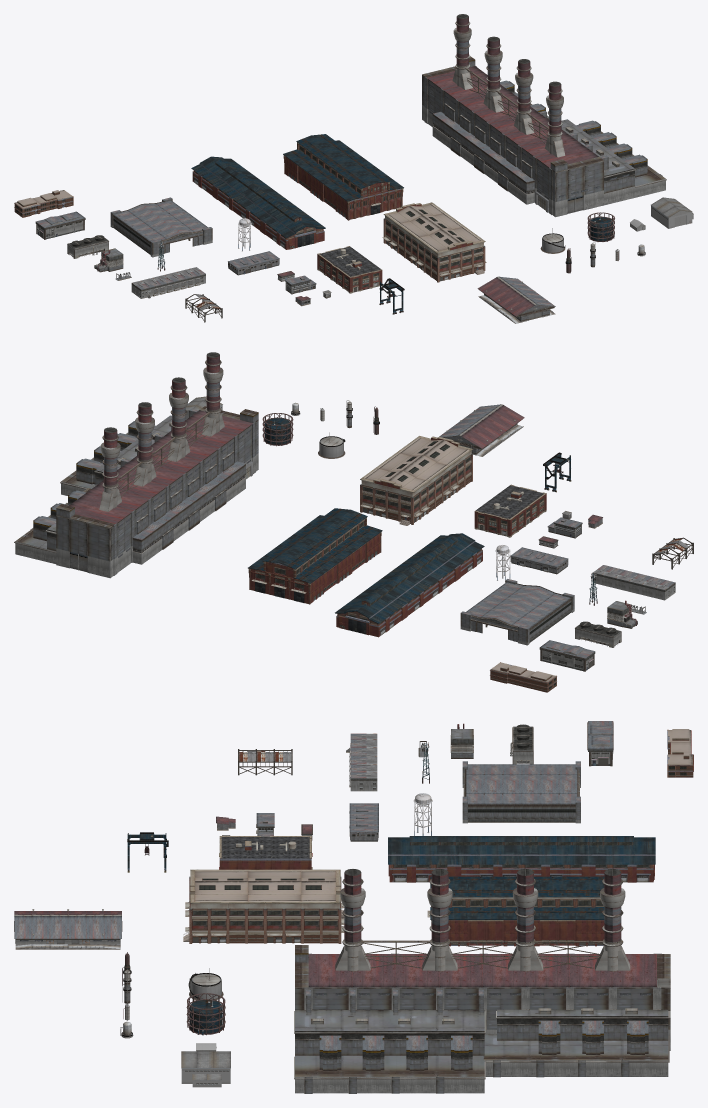
The model's file is industrial_buildings_set_-_low_poly_models.glb.
3 views of the same model, one above another, from view 1: azimuth 30°, elevation 25°; view 2: azimuth 150°, elevation 25°; view 3: azimuth 270°, elevation 25° (orthographic). The views are drawn at different scales.
Parts seen in each view (by area): view 1: Industrial_Powerplant_1_Industrial_Walls_FLR_1_0, Industrial_Building_10_Material #2_0, Industrial_FactoryPlant_2_Industrial_Walls_FLR_2_Dif_0, Industrial_Hangar_2_Industrial_Walls_FLR_1_0, Industrial_FactoryPlant_1_Industrial_Walls_FLR_2_0, Industrial_FactoryPlant_1_Industrial_Facade_Flr_1_0, Industrial_FactoryPlant_2_Industrial_Facade_Flr_1_0, Industrial_Warehouse_5_Industrial_Walls_FLR_1_0, Industrial_Building_1_Industrial_Facade_Flr_1_0, Industrial_LogisticTerminal_1_Industrial_Walls_FLR_1_0, Industrial_Warehouse_4_Industrial_Facade_Flr_1_0, Industrial_Warehouse_1_Industrial_Walls_FLR_1_0 (+9 smaller); view 2: Industrial_Powerplant_1_Industrial_Walls_FLR_1_0, Industrial_Building_10_Material #2_0, Industrial_FactoryPlant_2_Industrial_Walls_FLR_2_Dif_0, Industrial_FactoryPlant_1_Industrial_Walls_FLR_2_0, Industrial_Hangar_2_Industrial_Walls_FLR_1_0, Industrial_FactoryPlant_1_Industrial_Facade_Flr_1_0, Industrial_FactoryPlant_2_Industrial_Facade_Flr_1_0, Industrial_Warehouse_5_Industrial_Walls_FLR_1_0, Industrial_Building_1_Industrial_Facade_Flr_1_0, Industrial_LogisticTerminal_1_Industrial_Walls_FLR_1_0, Industrial_Warehouse_4_Industrial_Facade_Flr_1_0, Industrial_Warehouse_1_Industrial_Walls_FLR_1_0 (+6 smaller); view 3: Industrial_Powerplant_1_Industrial_Walls_FLR_1_0, Industrial_Building_10_Material #2_0, Industrial_Hangar_2_Industrial_Walls_FLR_1_0, Industrial_FactoryPlant_2_Industrial_Walls_FLR_2_Dif_0, Industrial_FactoryPlant_2_Industrial_Facade_Flr_1_0, Industrial_FactoryPlant_1_Industrial_Facade_Flr_1_0, Industrial_FactoryPlant_1_Industrial_Walls_FLR_2_0, Industrial_Warehouse_5_Industrial_Walls_FLR_1_0, Industrial_Building_1_Industrial_Roof_1_0, Industrial_Building_1_Industrial_Facade_Flr_1_0, Industrial_LogisticTerminal_1_Industrial_Walls_FLR_1_0, Industrial_Tank_2_Industrial_Walls_FLR_2_0 (+11 smaller).
Part boxes in pixels (left/top/right/bottom): Industrial_Powerplant_1_Industrial_Walls_FLR_1_0: left=422, top=14, right=666, bottom=217; Industrial_Building_10_Material #2_0: left=382, top=202, right=486, bottom=282; Industrial_FactoryPlant_2_Industrial_Walls_FLR_2_Dif_0: left=191, top=156, right=325, bottom=247; Industrial_Hangar_2_Industrial_Walls_FLR_1_0: left=110, top=197, right=212, bottom=257; Industrial_FactoryPlant_1_Industrial_Walls_FLR_2_0: left=283, top=134, right=403, bottom=214; Industrial_FactoryPlant_1_Industrial_Facade_Flr_1_0: left=283, top=142, right=403, bottom=220; Industrial_FactoryPlant_2_Industrial_Facade_Flr_1_0: left=192, top=162, right=324, bottom=249; Industrial_Warehouse_5_Industrial_Walls_FLR_1_0: left=477, top=276, right=555, bottom=321; Industrial_Building_1_Industrial_Facade_Flr_1_0: left=317, top=246, right=382, bottom=293; Industrial_LogisticTerminal_1_Industrial_Walls_FLR_1_0: left=131, top=267, right=205, bottom=298; Industrial_Warehouse_4_Industrial_Facade_Flr_1_0: left=14, top=190, right=73, bottom=217; Industrial_Warehouse_1_Industrial_Walls_FLR_1_0: left=35, top=211, right=85, bottom=239; Industrial_Powerplant_1_Industrial_Walls_FLR_1_0: left=14, top=352, right=258, bottom=578; Industrial_Building_10_Material #2_0: left=360, top=436, right=473, bottom=525; Industrial_FactoryPlant_2_Industrial_Walls_FLR_2_Dif_0: left=335, top=533, right=484, bottom=634; Industrial_FactoryPlant_1_Industrial_Walls_FLR_2_0: left=248, top=508, right=382, bottom=602; Industrial_Hangar_2_Industrial_Walls_FLR_1_0: left=460, top=579, right=574, bottom=645; Industrial_FactoryPlant_1_Industrial_Facade_Flr_1_0: left=248, top=517, right=381, bottom=604; Industrial_FactoryPlant_2_Industrial_Facade_Flr_1_0: left=336, top=540, right=482, bottom=637; Industrial_Warehouse_5_Industrial_Walls_FLR_1_0: left=438, top=404, right=524, bottom=454; Industrial_Building_1_Industrial_Facade_Flr_1_0: left=474, top=484, right=546, bottom=537; Industrial_LogisticTerminal_1_Industrial_Walls_FLR_1_0: left=592, top=565, right=675, bottom=600; Industrial_Warehouse_4_Industrial_Facade_Flr_1_0: left=490, top=662, right=556, bottom=692; Industrial_Warehouse_1_Industrial_Walls_FLR_1_0: left=539, top=640, right=595, bottom=671; Industrial_Powerplant_1_Industrial_Walls_FLR_1_0: left=294, top=868, right=670, bottom=1093; Industrial_Building_10_Material #2_0: left=183, top=869, right=344, bottom=943; Industrial_Hangar_2_Industrial_Walls_FLR_1_0: left=462, top=761, right=580, bottom=823; Industrial_FactoryPlant_2_Industrial_Walls_FLR_2_Dif_0: left=388, top=836, right=655, bottom=864; Industrial_FactoryPlant_2_Industrial_Facade_Flr_1_0: left=388, top=842, right=655, bottom=882; Industrial_FactoryPlant_1_Industrial_Facade_Flr_1_0: left=427, top=897, right=604, bottom=946; Industrial_FactoryPlant_1_Industrial_Walls_FLR_2_0: left=430, top=876, right=604, bottom=919; Industrial_Warehouse_5_Industrial_Walls_FLR_1_0: left=14, top=909, right=122, bottom=947; Industrial_Building_1_Industrial_Roof_1_0: left=221, top=837, right=309, bottom=858; Industrial_Building_1_Industrial_Facade_Flr_1_0: left=219, top=836, right=312, bottom=869; Industrial_LogisticTerminal_1_Industrial_Walls_FLR_1_0: left=350, top=733, right=377, bottom=791; Industrial_Tank_2_Industrial_Walls_FLR_2_0: left=186, top=993, right=225, bottom=1035.
Size of the model in its own units: 427 by 90.62 by 345.
13 materials, 13 textured.
